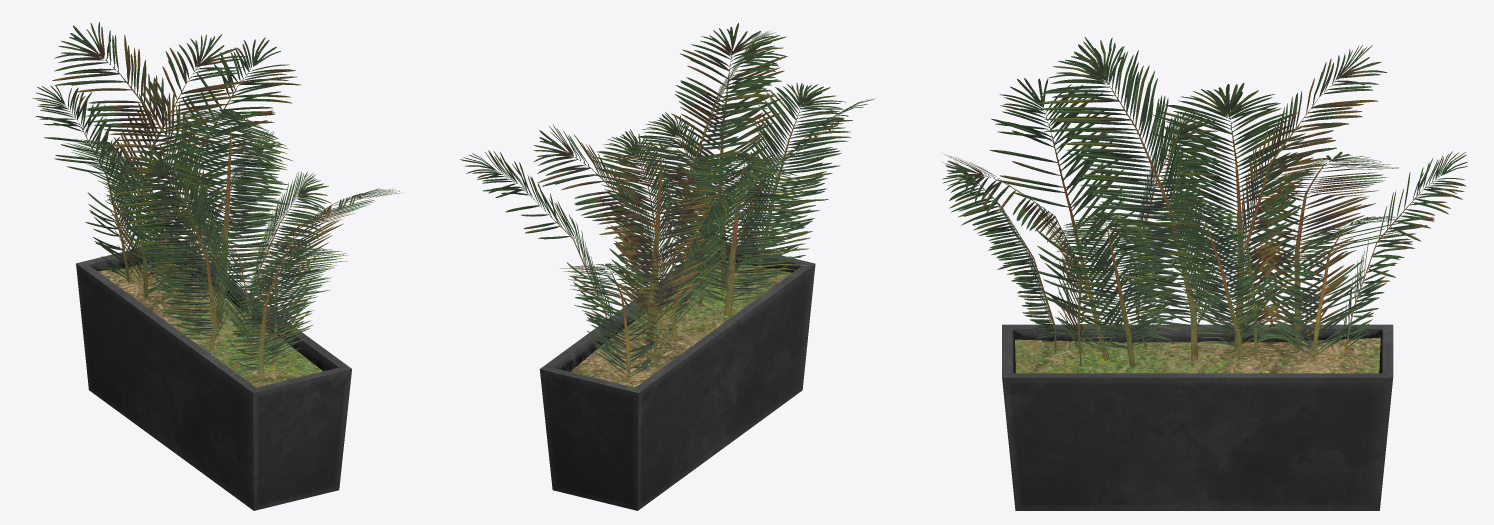
Rendered from MB_Pot_Flower_03.fbx.
The picture shows the model from 3 angles, left to right: view 1: azimuth 30°, elevation 25°; view 2: azimuth 150°, elevation 25°; view 3: azimuth 270°, elevation 25°; orthographic projection. The views are drawn at different scales.
Visible parts, largest first — view 1: MB_Pot_Flower_03_LOD0; view 2: MB_Pot_Flower_03_LOD0; view 3: MB_Pot_Flower_03_LOD0.
Boxes of the visible parts, x1,y1,x2,y2 form: MB_Pot_Flower_03_LOD0: (32,22,402,510); MB_Pot_Flower_03_LOD0: (460,23,874,510); MB_Pot_Flower_03_LOD0: (942,37,1467,510).
Size of what is drawn, in the model's own units: 95.12 by 124 by 146.
